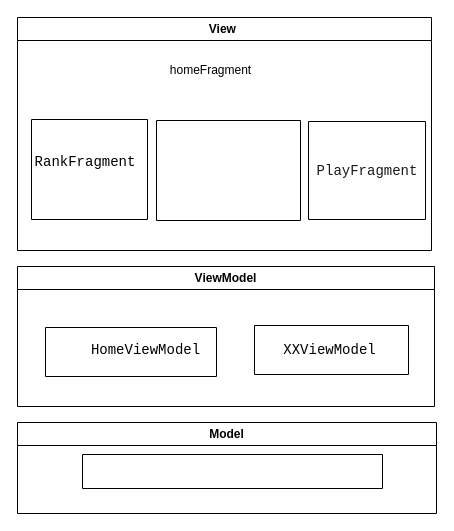
Image size: 454x531. Some labels were removed from this diagram. The centre of each missing label's shape, as x and y in pixels:
"XXXFragment" goes at point 228,170.
"XXXRepository" goes at point 232,471.
